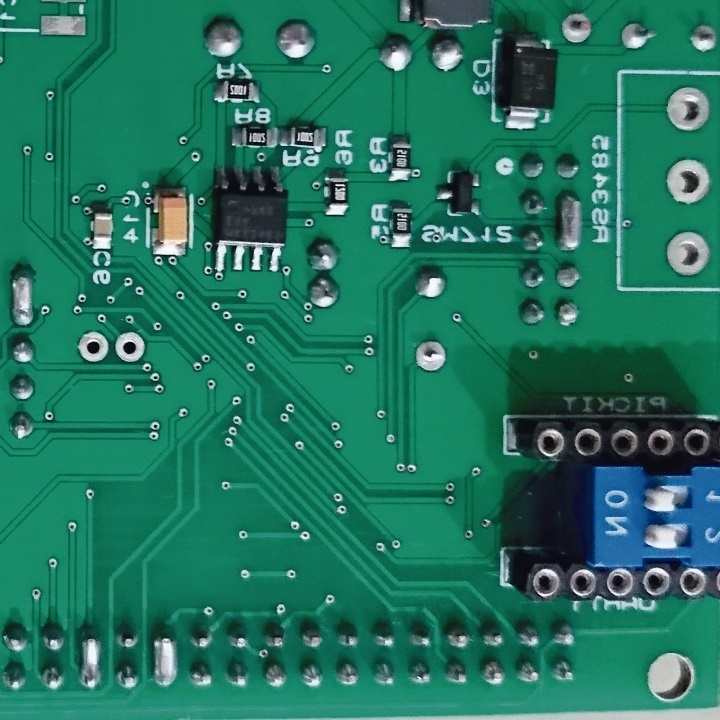F: (661, 155, 713, 207), (664, 83, 713, 134), (664, 229, 712, 280), (618, 18, 661, 54), (411, 338, 450, 377), (559, 9, 596, 49), (112, 326, 147, 366), (75, 327, 110, 366), (687, 20, 720, 58)
P: (75, 619, 106, 699), (149, 620, 182, 693), (553, 184, 586, 256), (5, 261, 39, 329)
